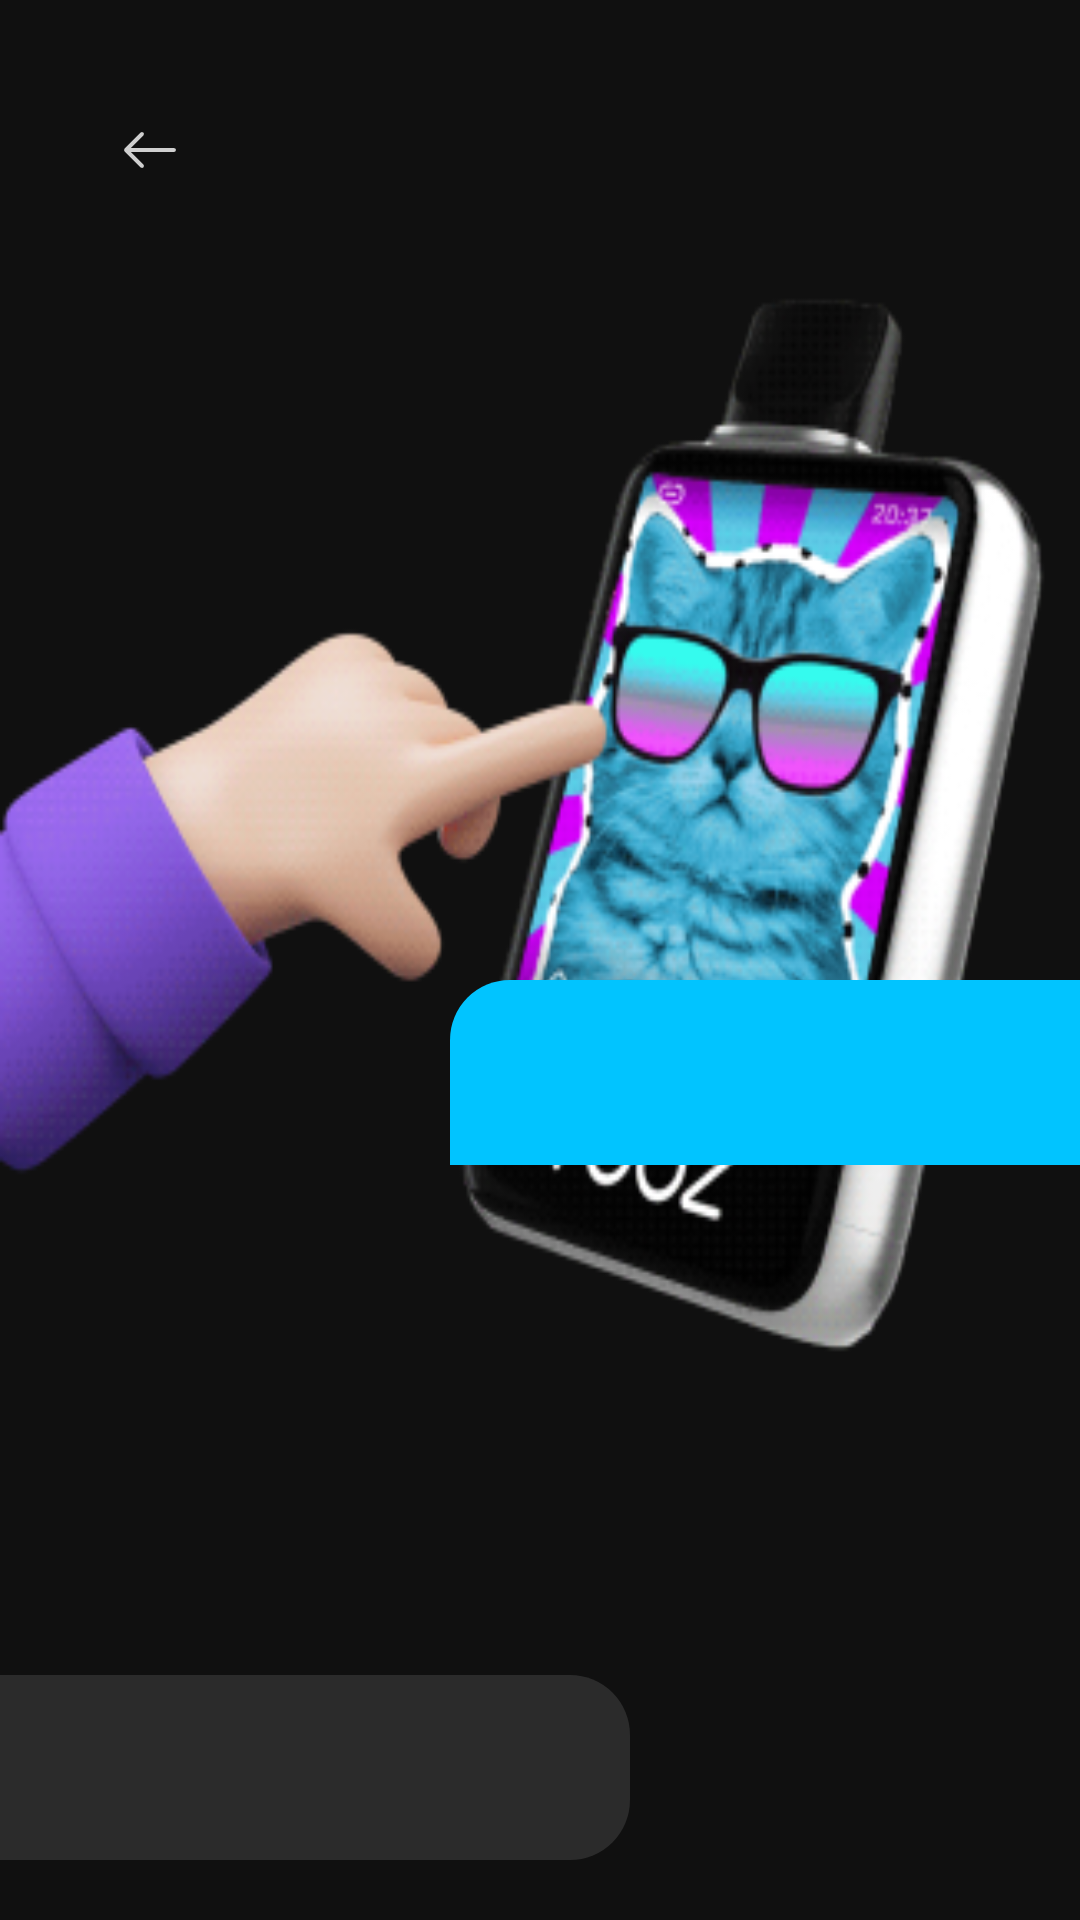

Screen size 1080px×1920px. Icon name, then its center in pixels as (x=x, y=y):
Return to the previous page: (x=150, y=150)
